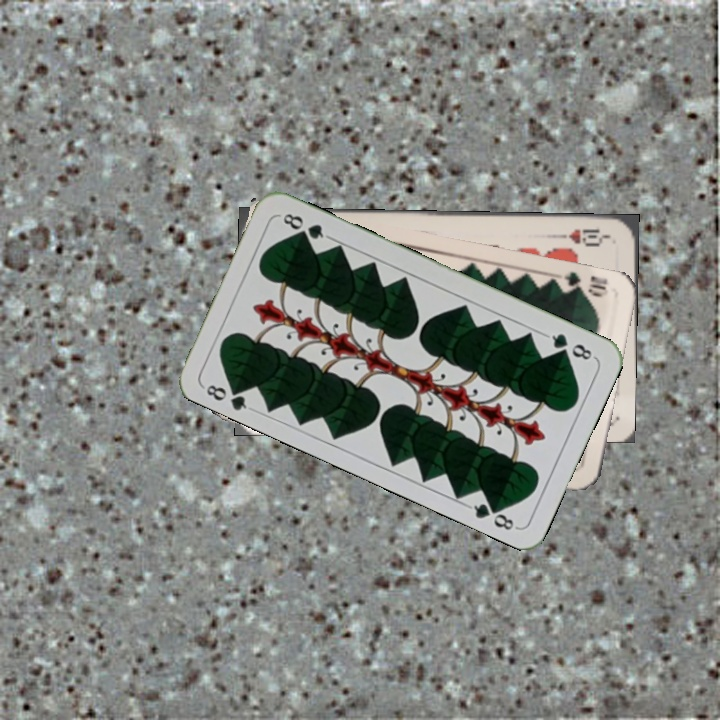G10: (559, 267, 611, 300)
G8: (199, 378, 255, 414), (542, 329, 597, 363)
H10: (553, 224, 612, 248)
